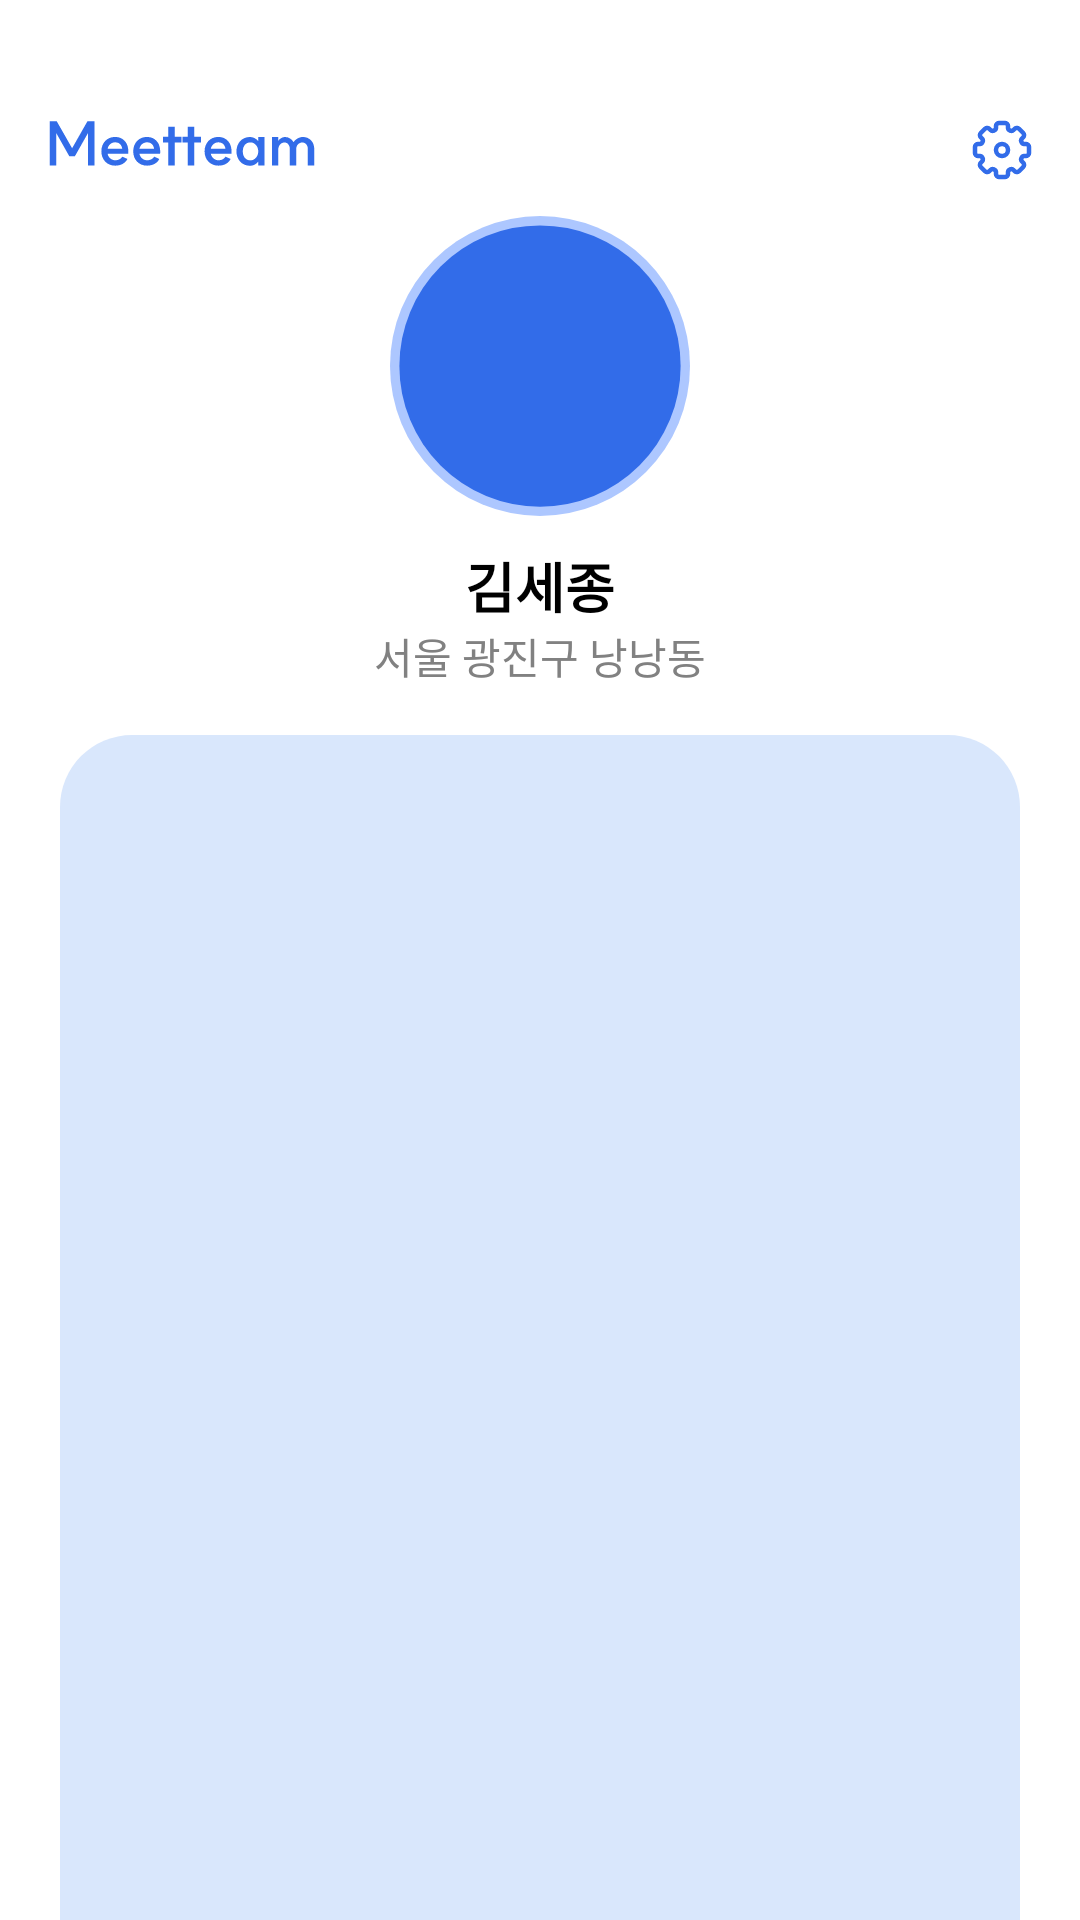

Where to tap for icons on this 1080px x 1920px app screen, as point (x, y):
mypage setting: point (1002, 150)
